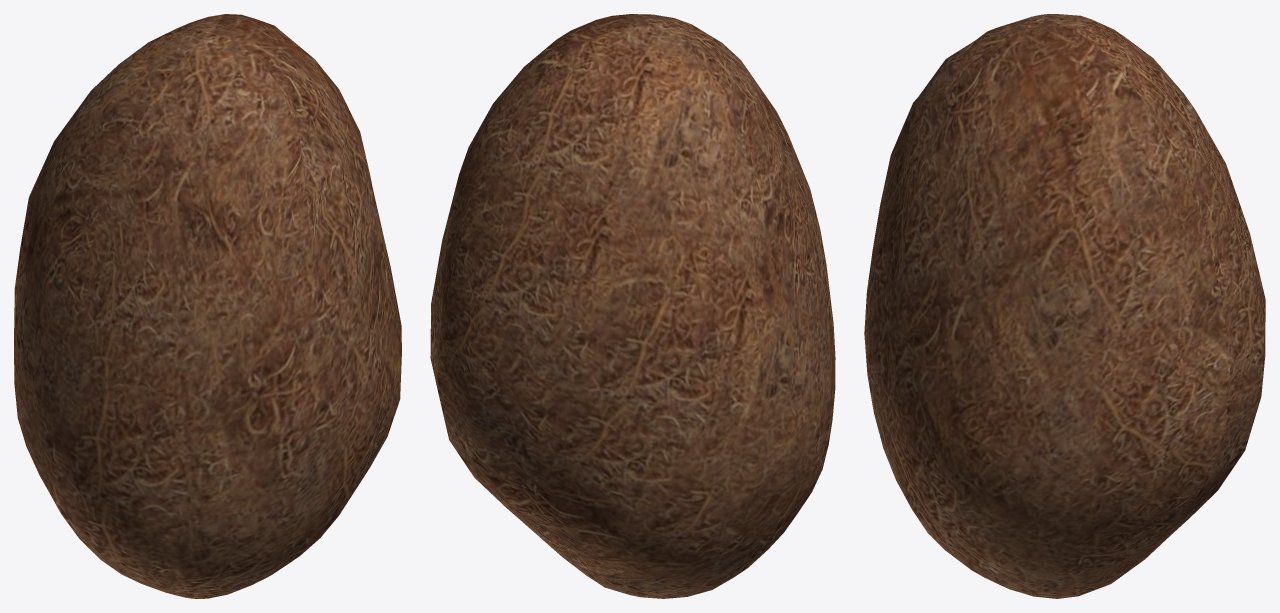
File: coconut.glb
3 renders of one model, left to right at view 1: azimuth 30°, elevation 25°; view 2: azimuth 150°, elevation 25°; view 3: azimuth 270°, elevation 25°, orthographic. The views are drawn at different scales.
Parts seen in each view (by area): view 1: Object_2; view 2: Object_2; view 3: Object_2.
Boxes of the visible parts, bbox=[...] form: Object_2: bbox=[14, 14, 401, 598]; Object_2: bbox=[430, 14, 835, 598]; Object_2: bbox=[864, 14, 1265, 598].
Size of the model in its own units: 3.13 by 4.78 by 3.04.
Materials: 1 (1 with a texture image).
